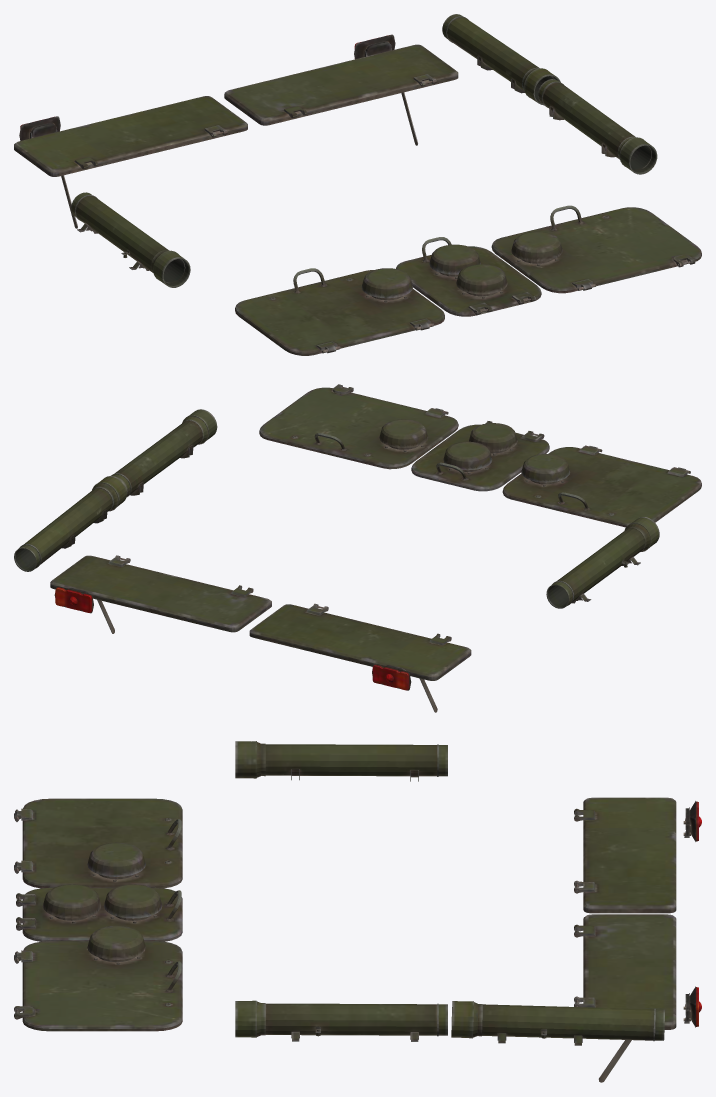
Rendered from backandhatch2.obj.
The picture shows the model from 3 angles, top to bottom: view 1: azimuth 30°, elevation 25°; view 2: azimuth 150°, elevation 25°; view 3: azimuth 270°, elevation 25°; orthographic projection. The views are drawn at different scales.
Parts seen in each view (by area): view 1: vehicle#ex_decor_l_04_144; view 2: vehicle#ex_decor_l_04_144; view 3: vehicle#ex_decor_l_04_144.
Boxes of the visible parts, <box> form: vehicle#ex_decor_l_04_144: <box>14,14,701,355</box>; vehicle#ex_decor_l_04_144: <box>14,384,701,712</box>; vehicle#ex_decor_l_04_144: <box>14,741,701,1082</box>.
Bounding box in the file's own units: 2.74 × 0.5354 × 2.84.
